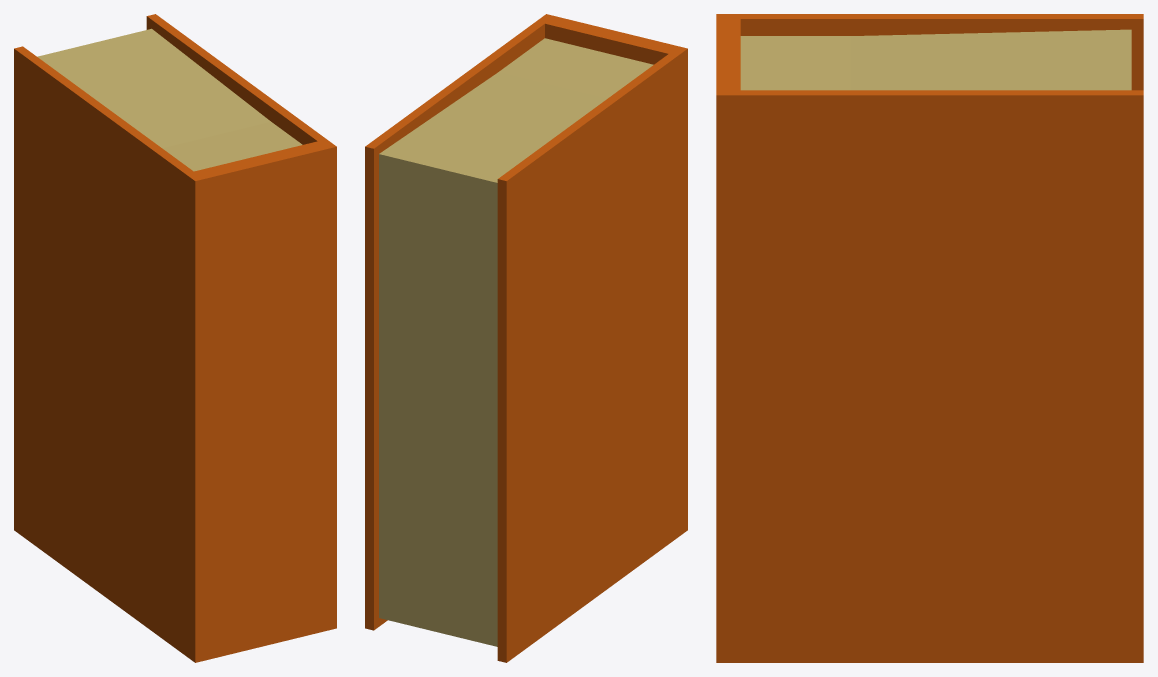
The model's file is CPI441_Fur_BookSingular_Orange.fbx.
3 views of the same model, side by side, from view 1: azimuth 30°, elevation 25°; view 2: azimuth 150°, elevation 25°; view 3: azimuth 270°, elevation 25° (orthographic). The views are drawn at different scales.
Visible parts, largest first — view 1: Cube; view 2: Cube; view 3: Cube.
Boxes of the visible parts, x1,y1,x2,y2 form: Cube: (14,14,336,662); Cube: (365,14,687,662); Cube: (716,14,1143,662).
Bounding box in the file's own units: 49.65 × 161 × 110.
